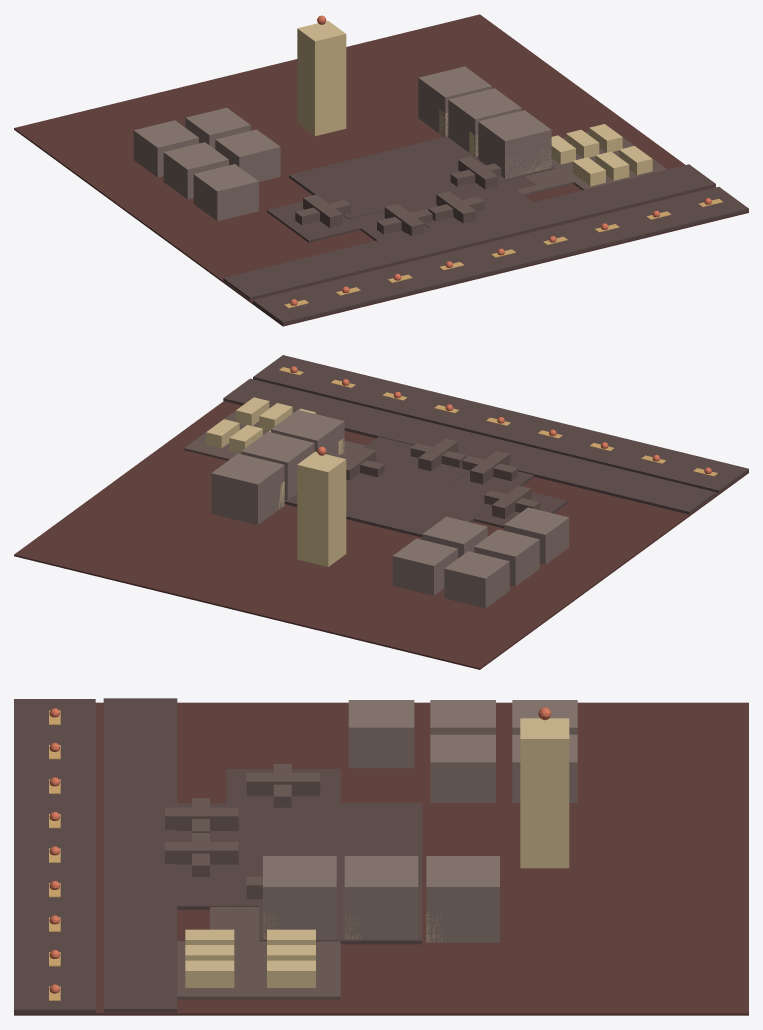
The model's file is stage_21.glb.
3 renders of one model, top to bottom at view 1: azimuth 30°, elevation 25°; view 2: azimuth 150°, elevation 25°; view 3: azimuth 270°, elevation 25°, orthographic. The views are drawn at different scales.
Visible parts, largest first — view 1: geometry_0; view 2: geometry_0; view 3: geometry_0.
Boxes of the visible parts, left/top/right/bottom form: geometry_0: left=14, top=14, right=748, bottom=326; geometry_0: left=14, top=355, right=748, bottom=669; geometry_0: left=14, top=698, right=748, bottom=1015.
Bounding box in the file's own units: 9 × 2.06 × 9.
